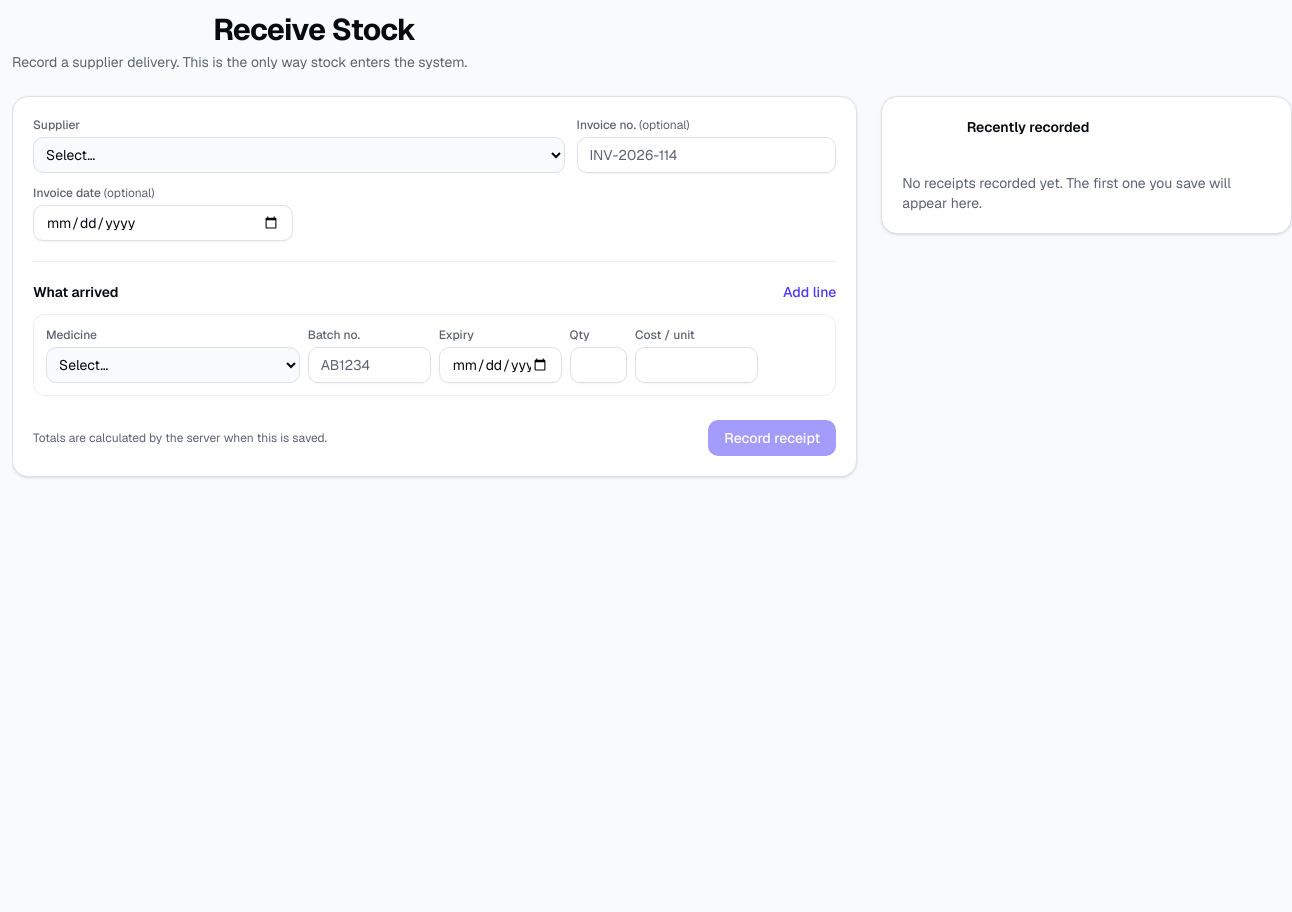
Test: request body › trims whitespace from the batch number
The image size is (1292, 912).
Step 1. Select "Sun Pharma" in the dropdown labelled "Supplier" → {"x": 299, "y": 155}, box [33,137,564,173]
Step 2. Select "Paracetamol 500mg" in the dropdown labelled "Medicine" → {"x": 173, "y": 365}, box [46,347,300,383]
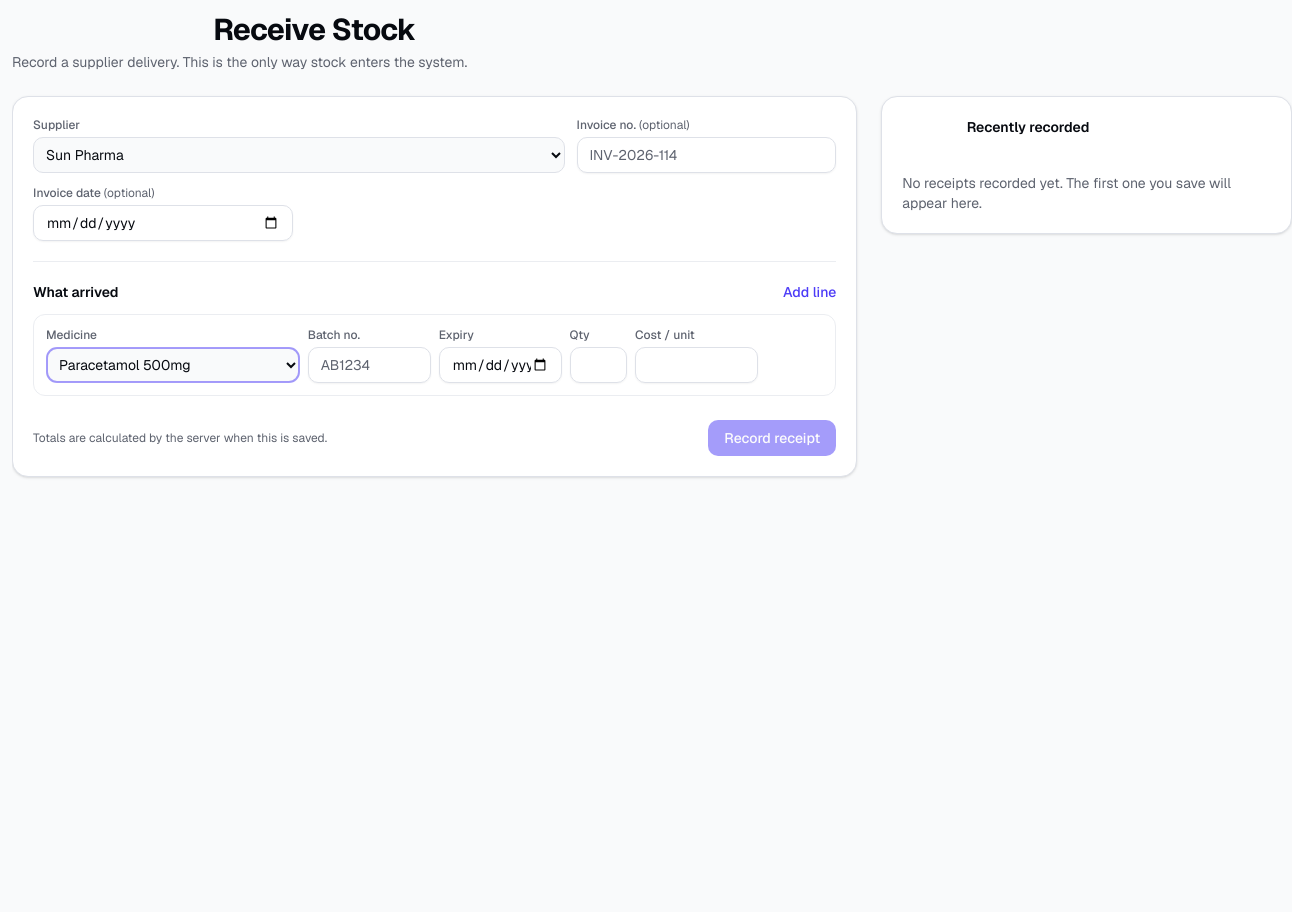
Step 3. Type "  GR-A  " into the field labelled "Batch no." → {"x": 369, "y": 365}, box [308,347,431,383]
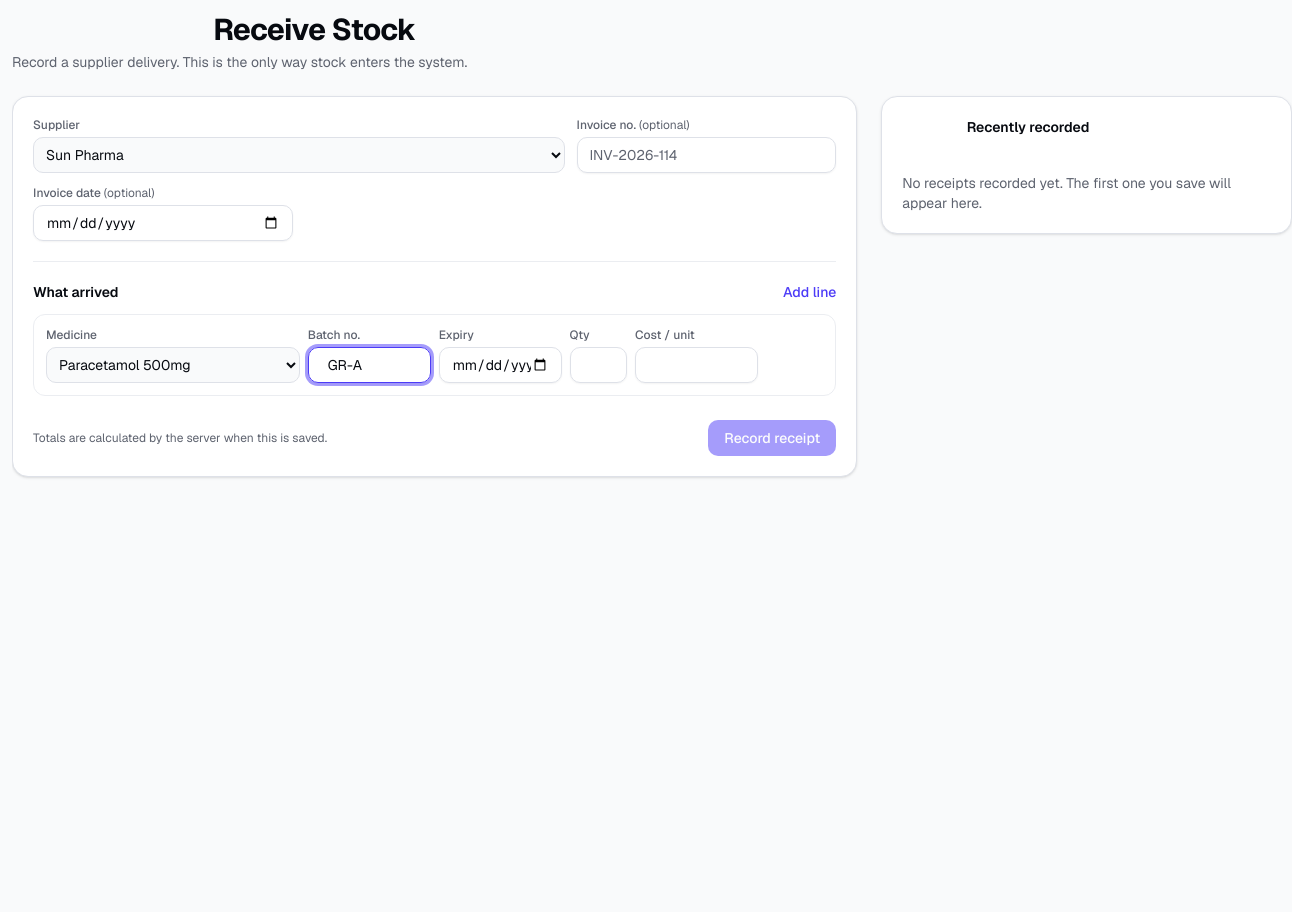
Step 4. Type "2027-06-30" into the date field labelled "Expiry" → {"x": 500, "y": 365}, box [439,347,562,383]
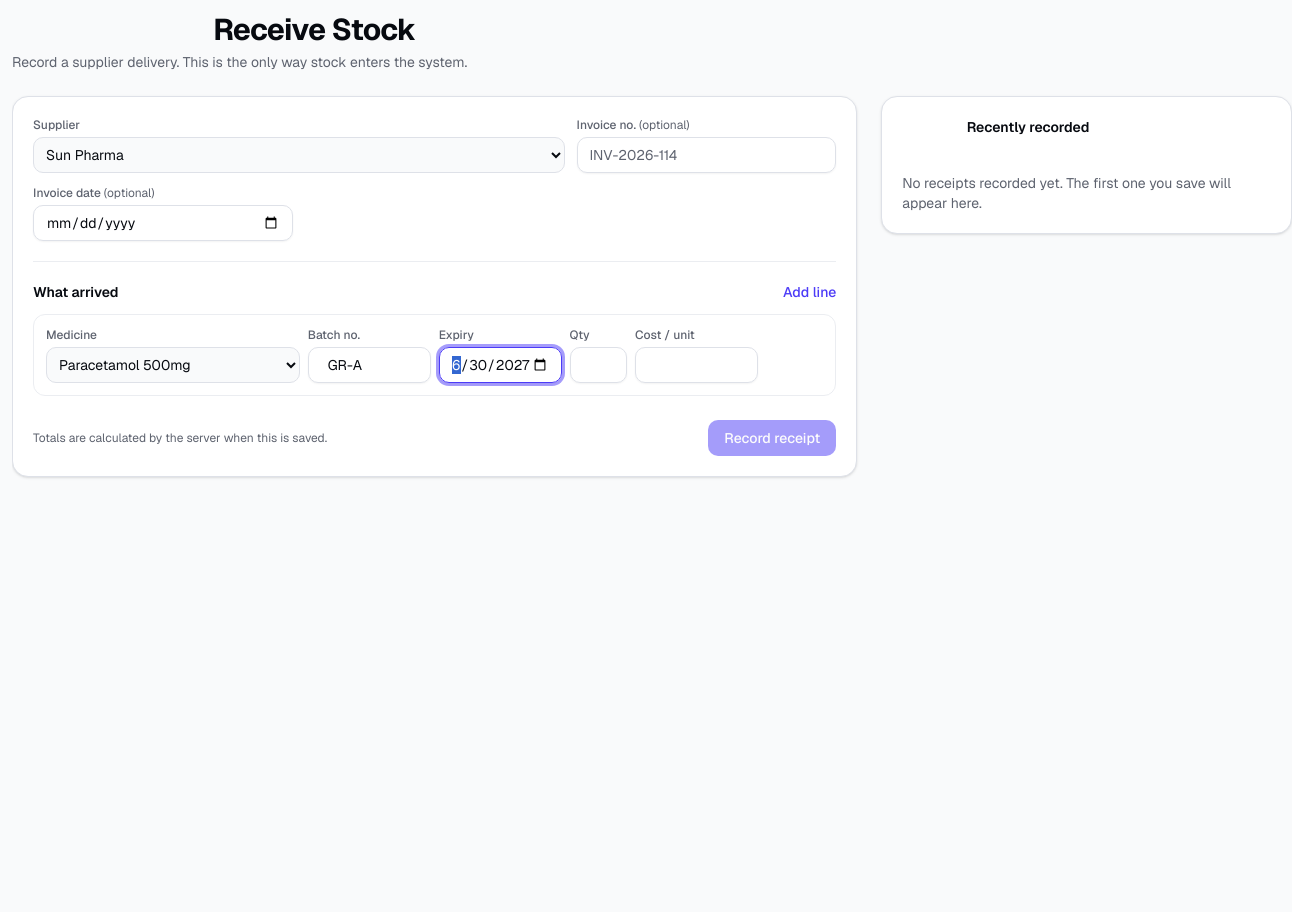
Step 5. Type "100" into the number field labelled "Qty" → {"x": 598, "y": 365}, box [570,347,627,383]
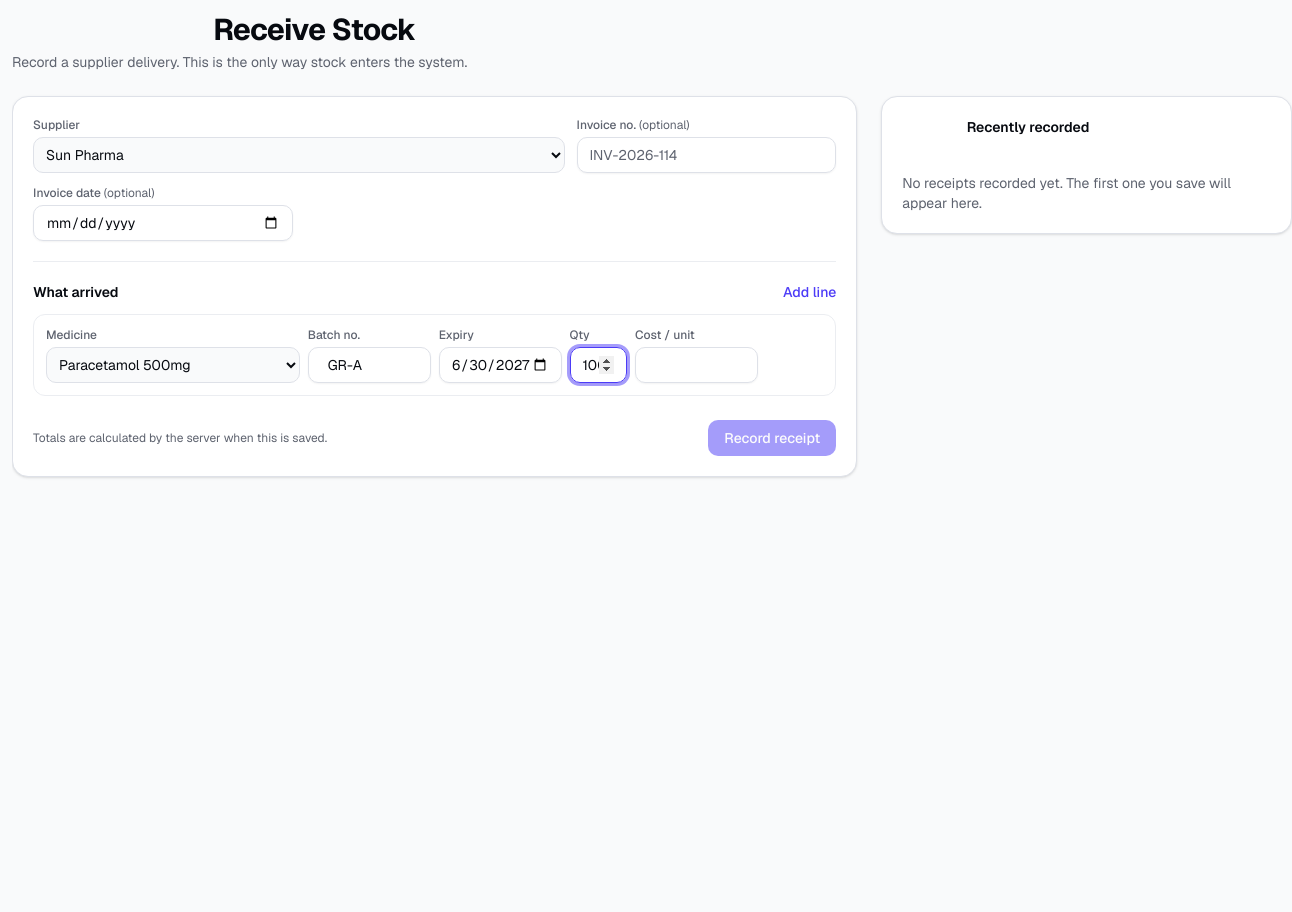
Step 6. Type "12.50" into the number field labelled "Cost / unit" → {"x": 696, "y": 365}, box [635,347,758,383]
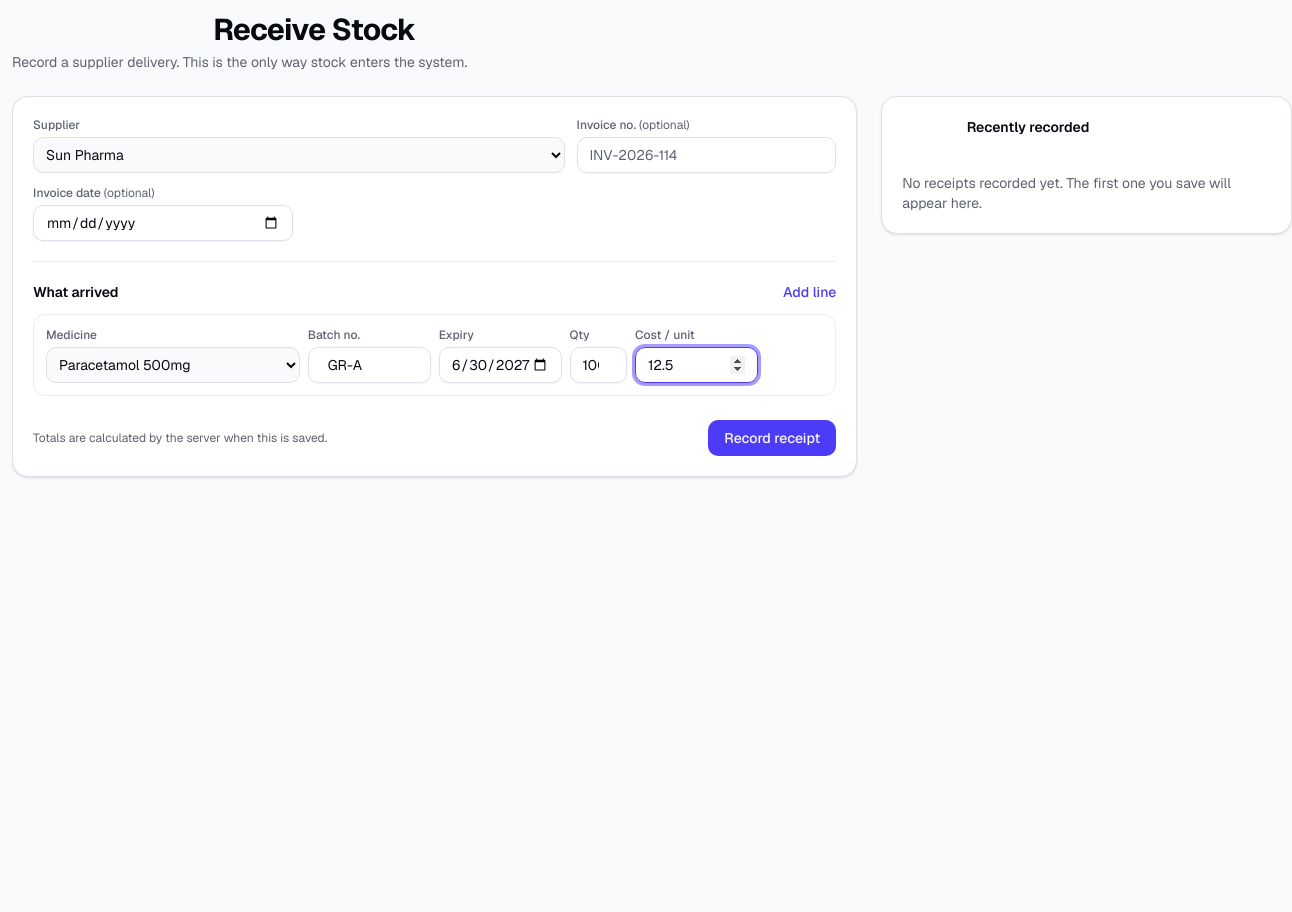
Step 7. Click the button "Record receipt" → {"x": 772, "y": 438}, box [708,420,836,456]
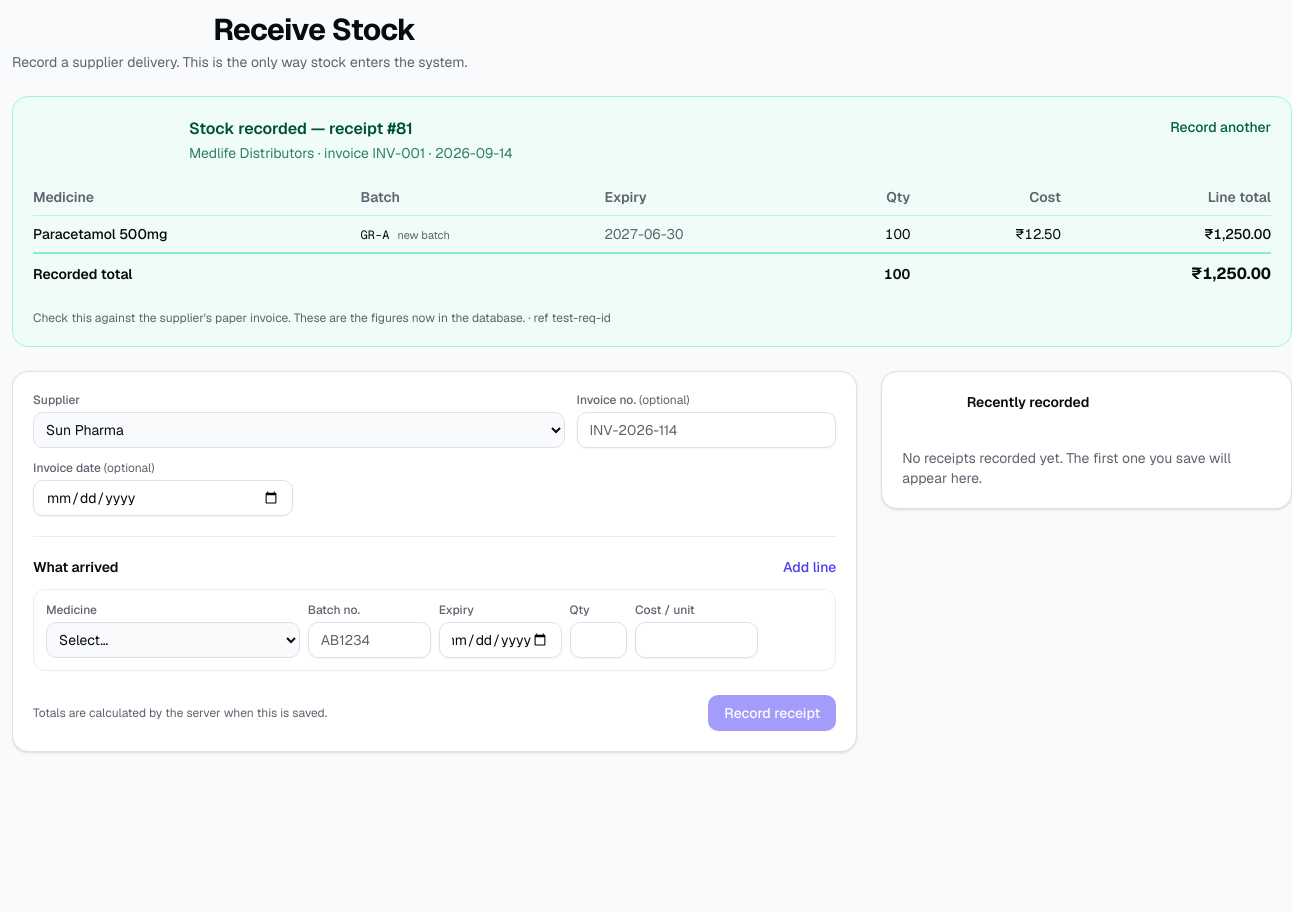
Now the text "GR-A" is shown, box [361,227,389,243]
